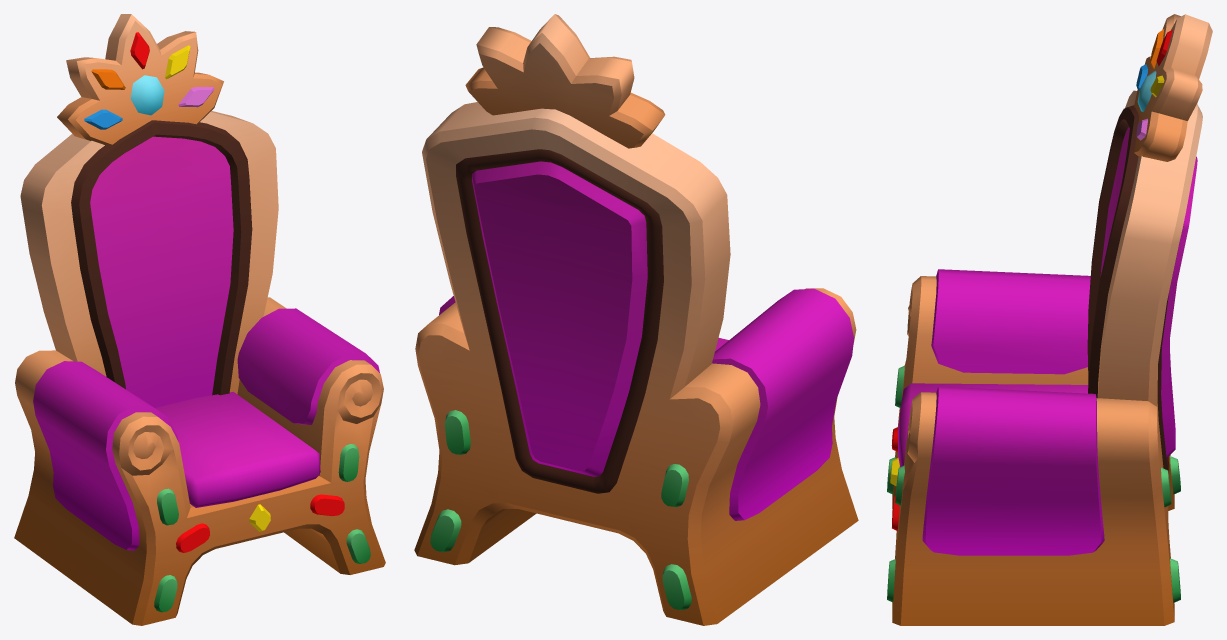
Rendered from Throne_01.glb.
3 views of the same model, side by side, from view 1: azimuth 30°, elevation 25°; view 2: azimuth 150°, elevation 25°; view 3: azimuth 270°, elevation 25° (orthographic). The views are drawn at different scales.
Visible parts, largest first — view 1: Throne_01; view 2: Throne_01; view 3: Throne_01.
Part boxes in pixels (bbox=[...]): Throne_01: bbox=[14, 14, 385, 625]; Throne_01: bbox=[414, 14, 858, 625]; Throne_01: bbox=[887, 14, 1212, 625].
Bounding box in the file's own units: 2.54 × 4.26 × 2.32.
Materials: 1 (1 with a texture image).
